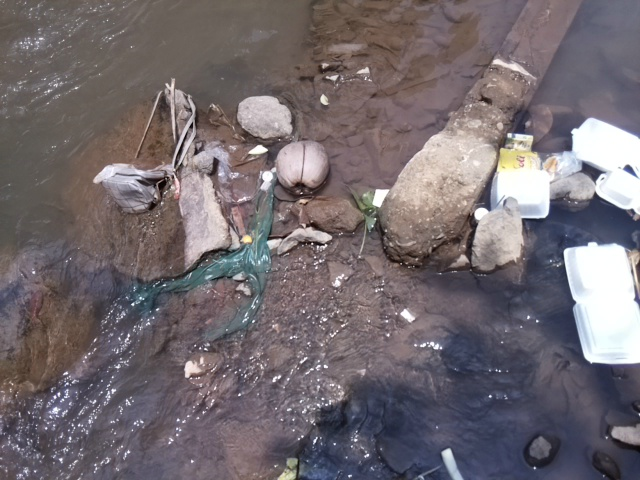Sampah_Styrofoam: (562, 239, 640, 366), (571, 117, 640, 215), (487, 165, 558, 224)
